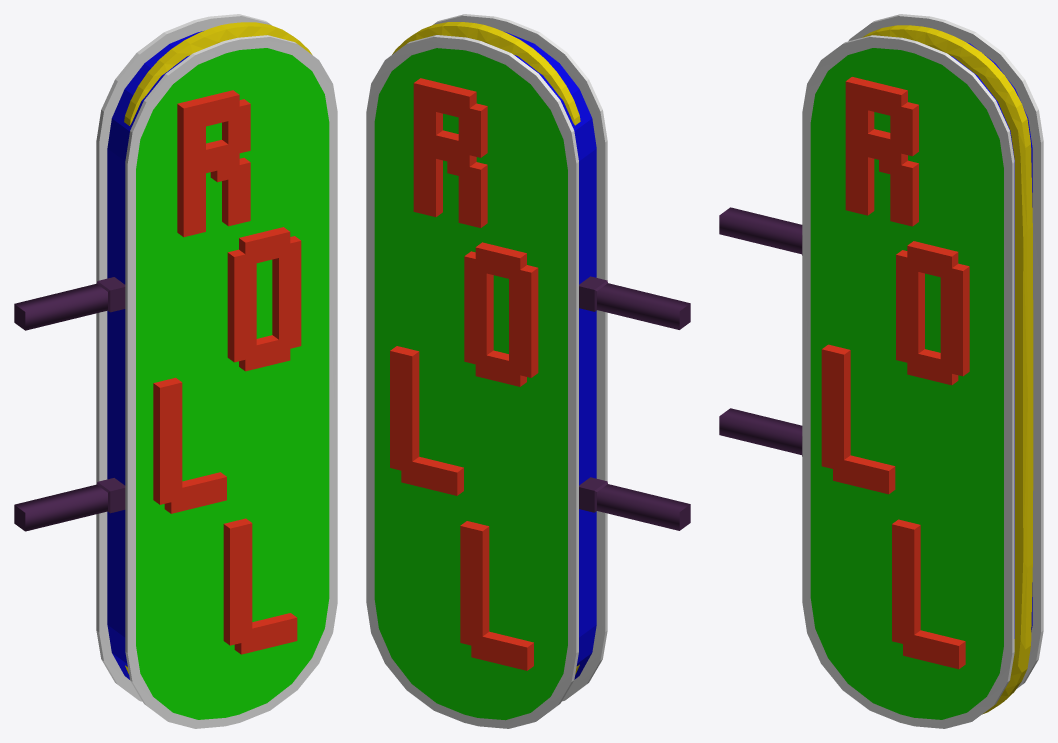
File: Cartel2.fbx
3 views of the same model, side by side, from view 1: azimuth 30°, elevation 25°; view 2: azimuth 150°, elevation 25°; view 3: azimuth 330°, elevation 25° (orthographic).
Parts seen in each view (by area): view 1: path22; view 2: path22; view 3: path22.
Part boxes in pixels (<box>): path22: <box>14,14,337,728</box>; path22: <box>366,14,690,728</box>; path22: <box>719,14,1043,728</box>.
Bounding box in the file's own units: 0.452 × 0.967 × 0.1143.
